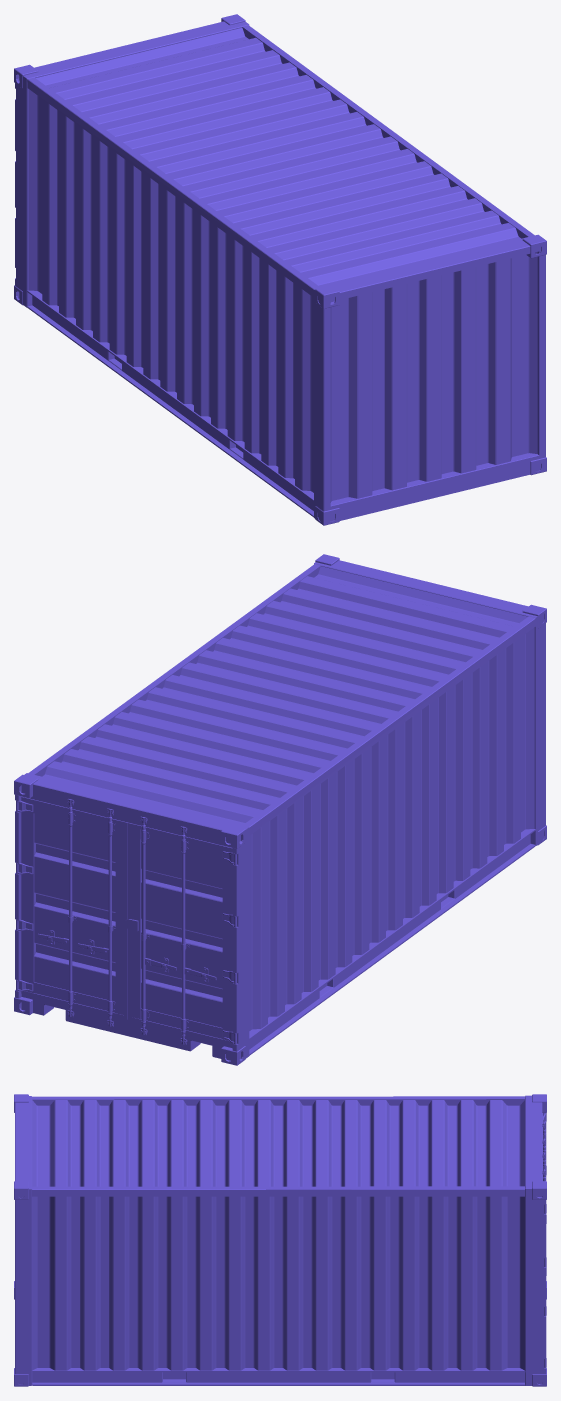
The model's file is blue_container.glb.
3 views of the same model, one above another, from view 1: azimuth 30°, elevation 25°; view 2: azimuth 150°, elevation 25°; view 3: azimuth 270°, elevation 25° (orthographic). The views are drawn at different scales.
Parts seen in each view (by area): view 1: 12281_Container_v2_L2; view 2: 12281_Container_v2_L2; view 3: 12281_Container_v2_L2.
Part boxes in pixels (<box>): 12281_Container_v2_L2: <box>14,14,546,525</box>; 12281_Container_v2_L2: <box>14,554,546,1065</box>; 12281_Container_v2_L2: <box>14,1094,546,1386</box>.
Size of the model in its own units: 8.28 by 8.17 by 19.88.
